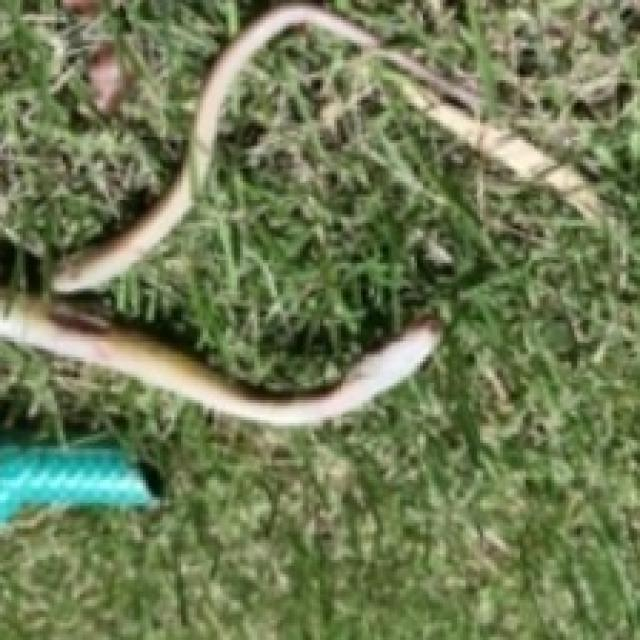reddish rat snake: (51, 9, 475, 296), (0, 300, 439, 426)
